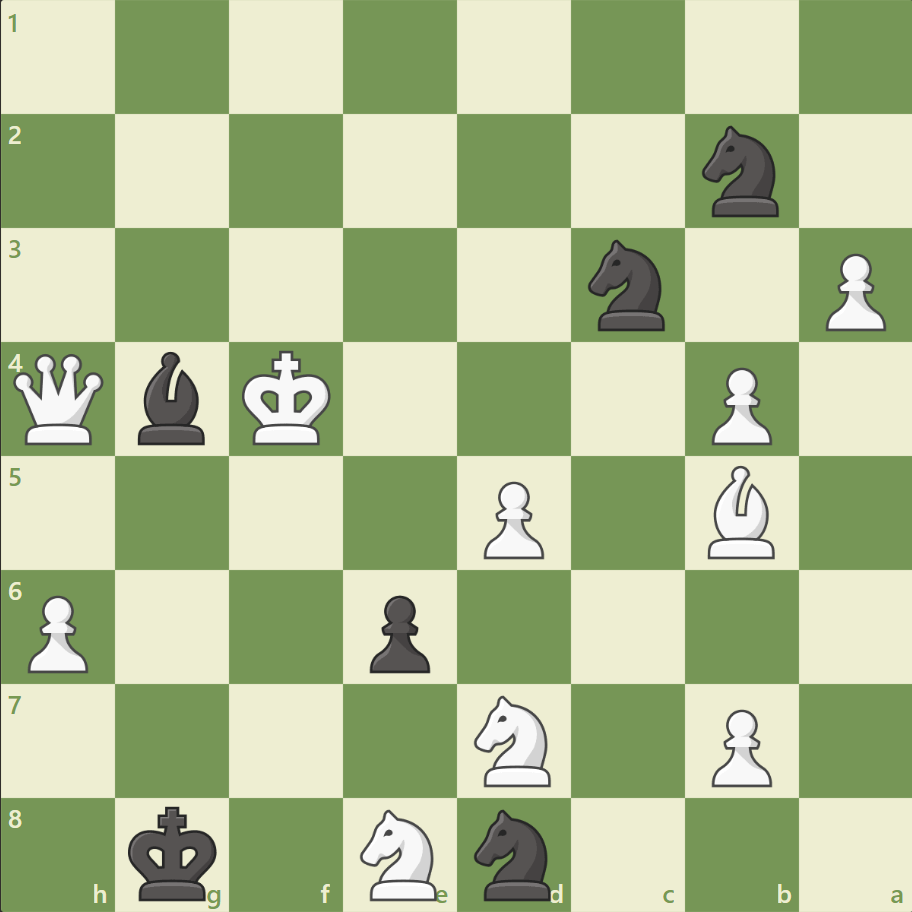B: (698, 460, 782, 563)
K: (238, 344, 338, 452)
N: (351, 802, 449, 904), (465, 688, 562, 791)
P: (701, 700, 776, 791), (20, 586, 95, 677), (474, 473, 549, 564), (701, 359, 776, 450), (815, 246, 889, 337)
Q: (10, 349, 109, 449)
b: (131, 347, 215, 449)
k: (124, 798, 224, 906)
n: (579, 234, 676, 337), (465, 802, 562, 904), (692, 121, 789, 223)
p: (361, 586, 435, 677)
